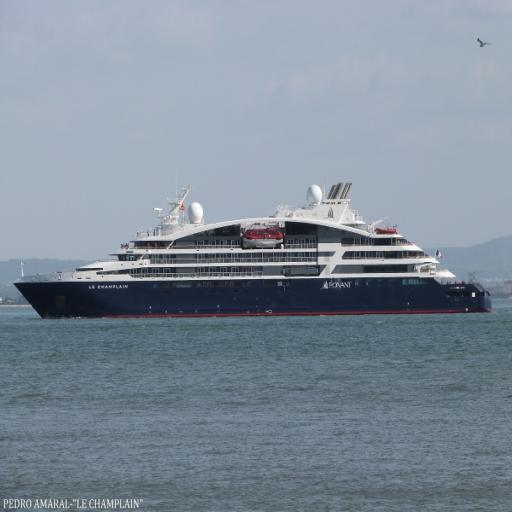cruises: (12, 179, 497, 323)
